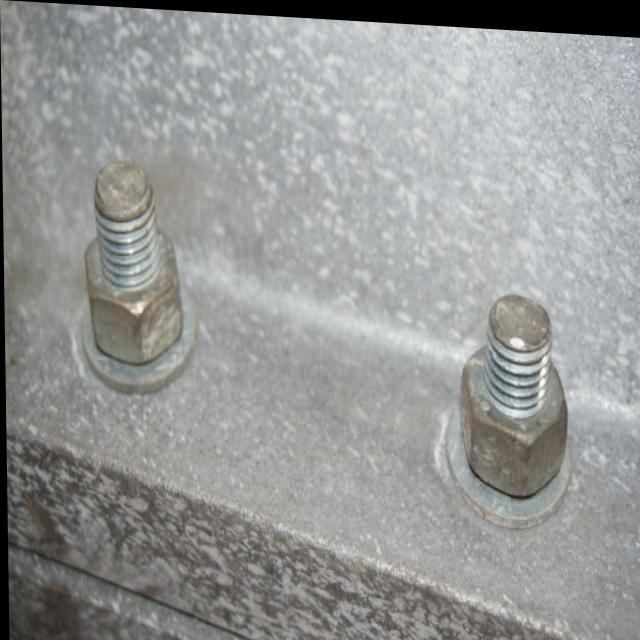Regular bolt: (461, 287, 569, 496), (84, 161, 185, 365)
